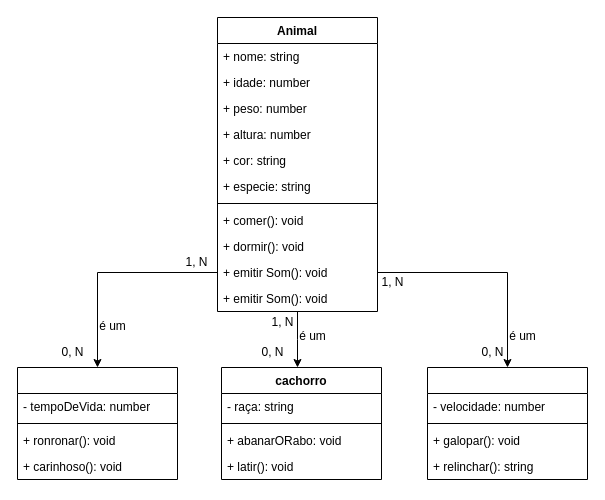
Image size: 605x500. Some labels were removed from this diagram. The shapes that lost their labels are listed below. From the top down, each one's box as (x1, y1, x2, y2) in pixels, then its label:
(16, 366, 178, 480): gato
(426, 366, 588, 480): cavalo
